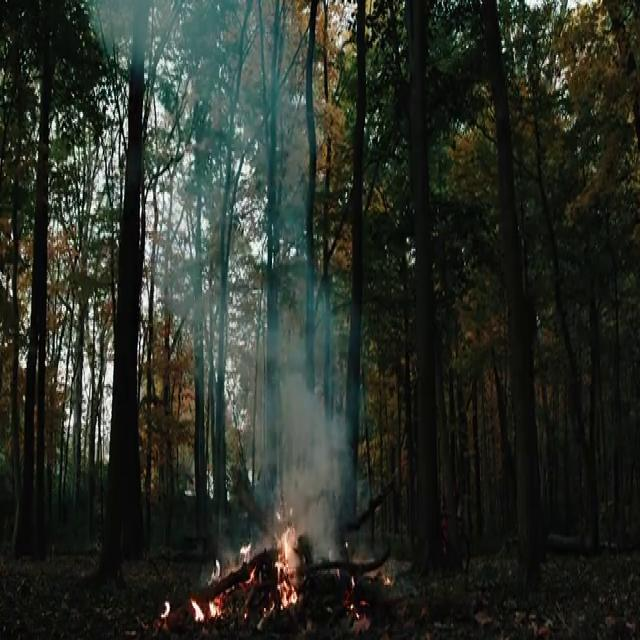smoke: (278, 378, 343, 551), (266, 264, 334, 362), (91, 5, 175, 58)
